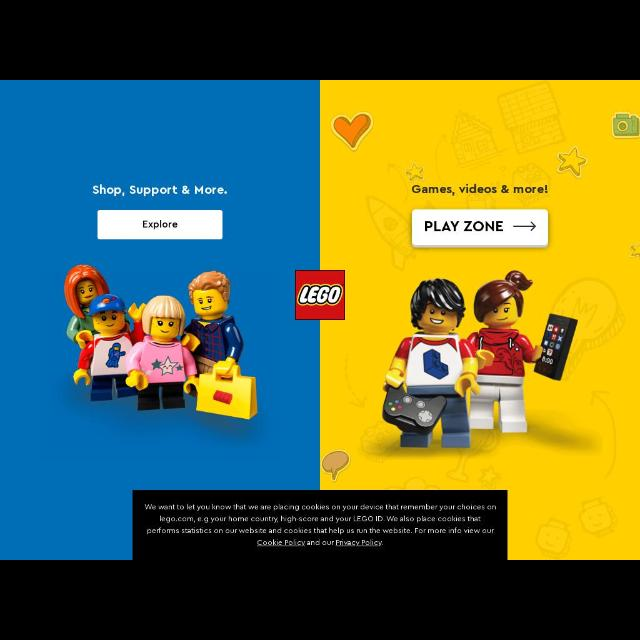backgroundimage: (1, 80, 640, 560)
icon: (513, 222, 535, 230)
link: (256, 538, 306, 548), (336, 539, 382, 547)
text: (160, 515, 480, 523), (144, 504, 496, 511), (148, 528, 494, 534), (412, 184, 548, 196), (93, 184, 227, 196), (257, 538, 383, 548), (424, 221, 504, 231), (143, 220, 177, 230)
textbutton: (412, 210, 548, 248), (98, 210, 222, 240)
